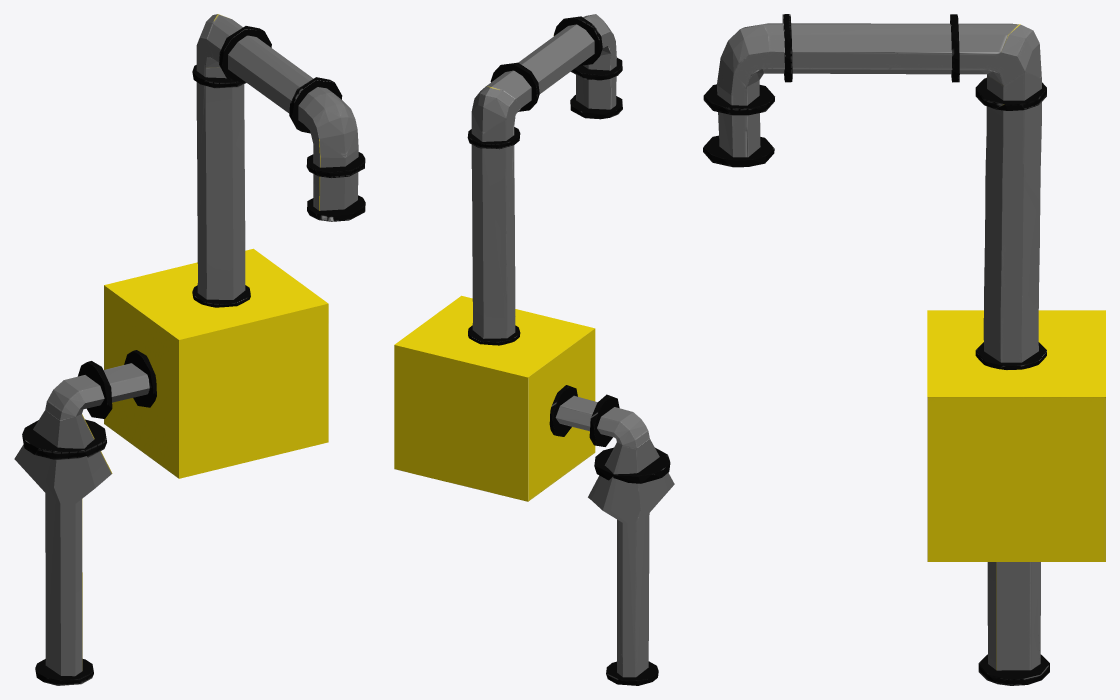
The model's file is Grua_Bomba2.fbx.
3 renders of one model, left to right at view 1: azimuth 30°, elevation 25°; view 2: azimuth 150°, elevation 25°; view 3: azimuth 270°, elevation 25°, orthographic. The views are drawn at different scales.
Parts seen in each view (by area): view 1: Bomba.007; view 2: Bomba.007; view 3: Bomba.007.
Part boxes in pixels (<box>): Bomba.007: <box>14,14,365,685</box>; Bomba.007: <box>394,14,674,685</box>; Bomba.007: <box>703,14,1105,685</box>.
Size of the model in its own units: 4.1 by 9.32 by 4.55.
Materials: 1 (1 with a texture image).
